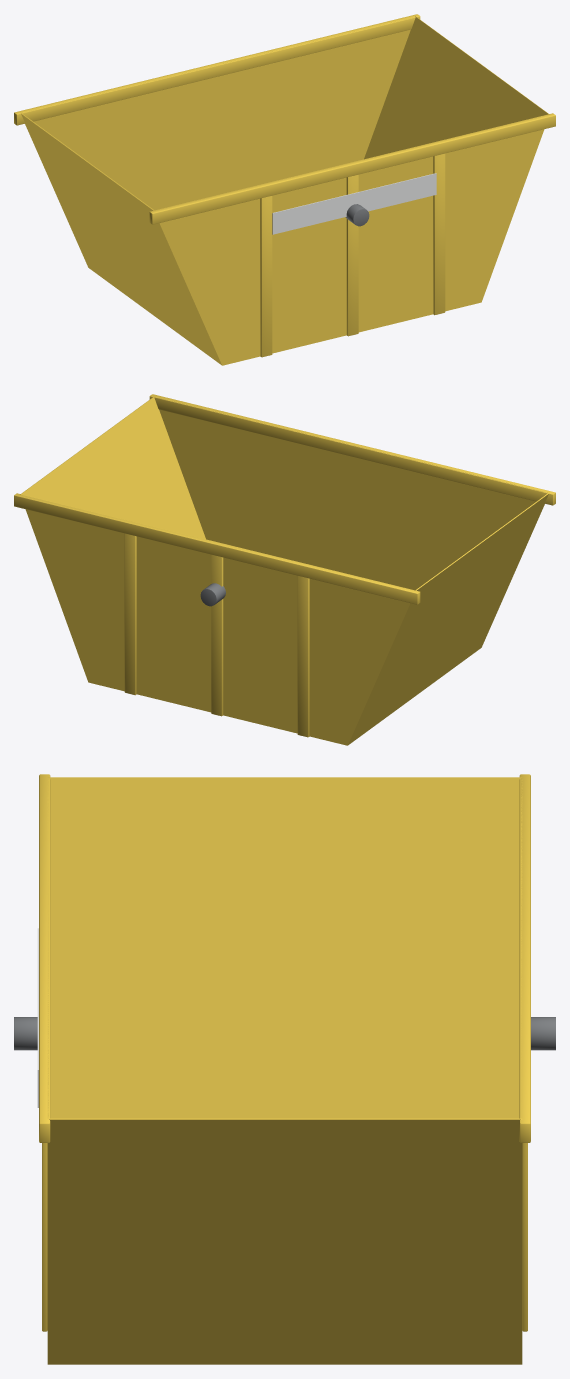
File: SER-CAC-002_anim.glb
3 renders of one model, top to bottom at view 1: azimuth 30°, elevation 25°; view 2: azimuth 150°, elevation 25°; view 3: azimuth 270°, elevation 25°, orthographic. The views are drawn at different scales.
Parts seen in each view (by area): view 1: SER-CAC-002_anim0; view 2: SER-CAC-002_anim0; view 3: SER-CAC-002_anim0.
Part boxes in pixels (x1,y1,x2,y2): SER-CAC-002_anim0: (14, 14, 555, 365); SER-CAC-002_anim0: (14, 394, 555, 745); SER-CAC-002_anim0: (14, 774, 555, 1364).
Bounding box in the file's own units: 2.96 × 1.2 × 1.94.
